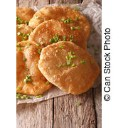poori: (42, 41, 99, 95), (16, 40, 56, 95), (31, 7, 89, 44), (32, 19, 83, 52)
